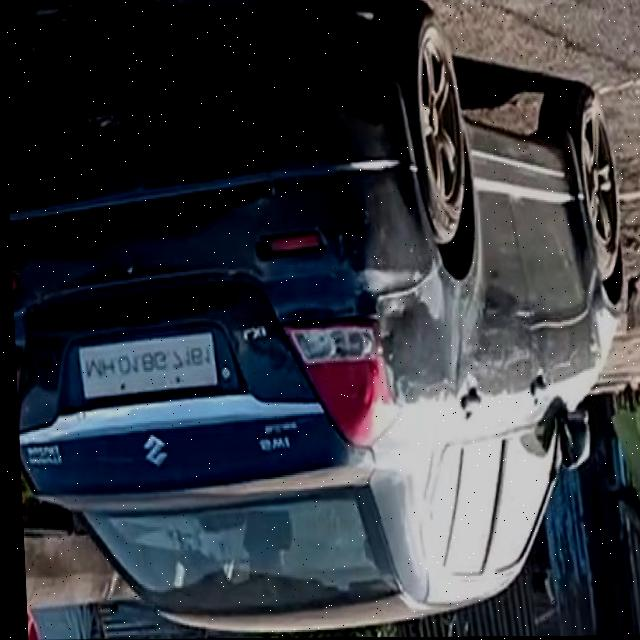plate: (78, 331, 215, 399)
